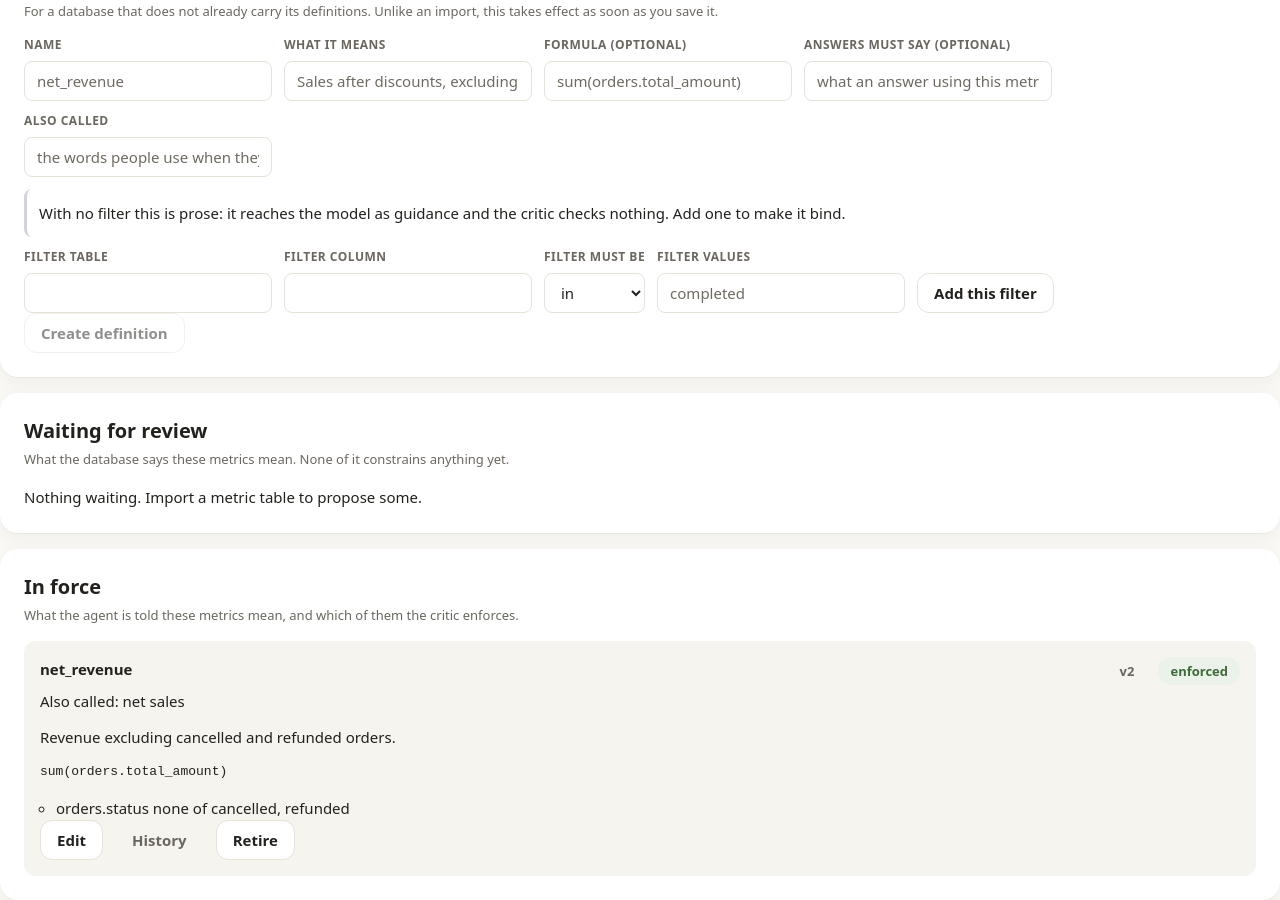
Test: <Definitions /> › shows which version is in force, and what the earlier ones said
The image size is (1280, 900).
(page scrolled)
Expected: the text "v2" is shown, [1108,657,1146,685]
Click the button "History": (159, 840) [115,820,204,860]
(page scrolled)
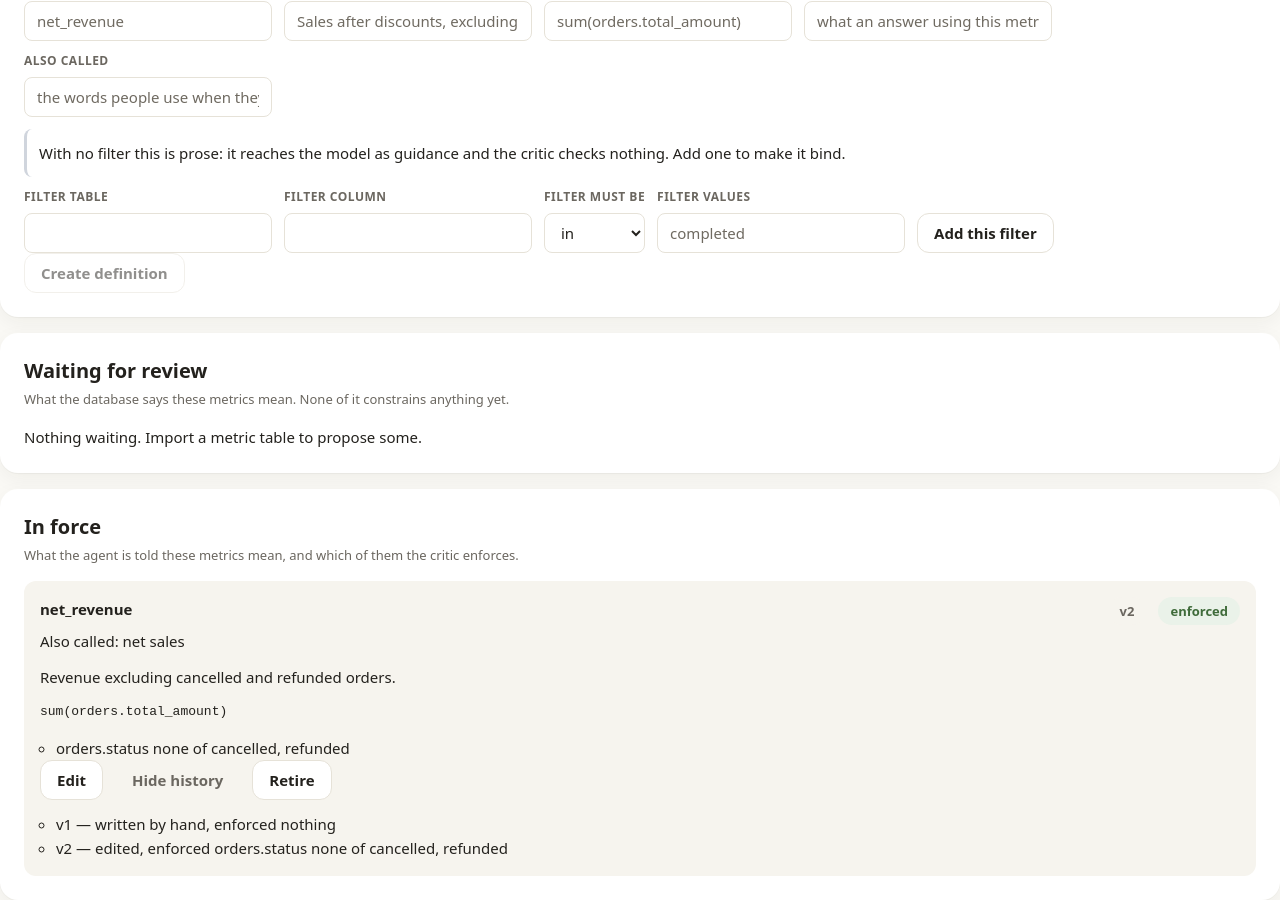
Expected: the list item "v1 — written by hand, enforced nothing" is shown, [56,814,336,834]
Expected: the list item "v2 — edited, enforced orders.status" is shown, [56,838,508,858]
